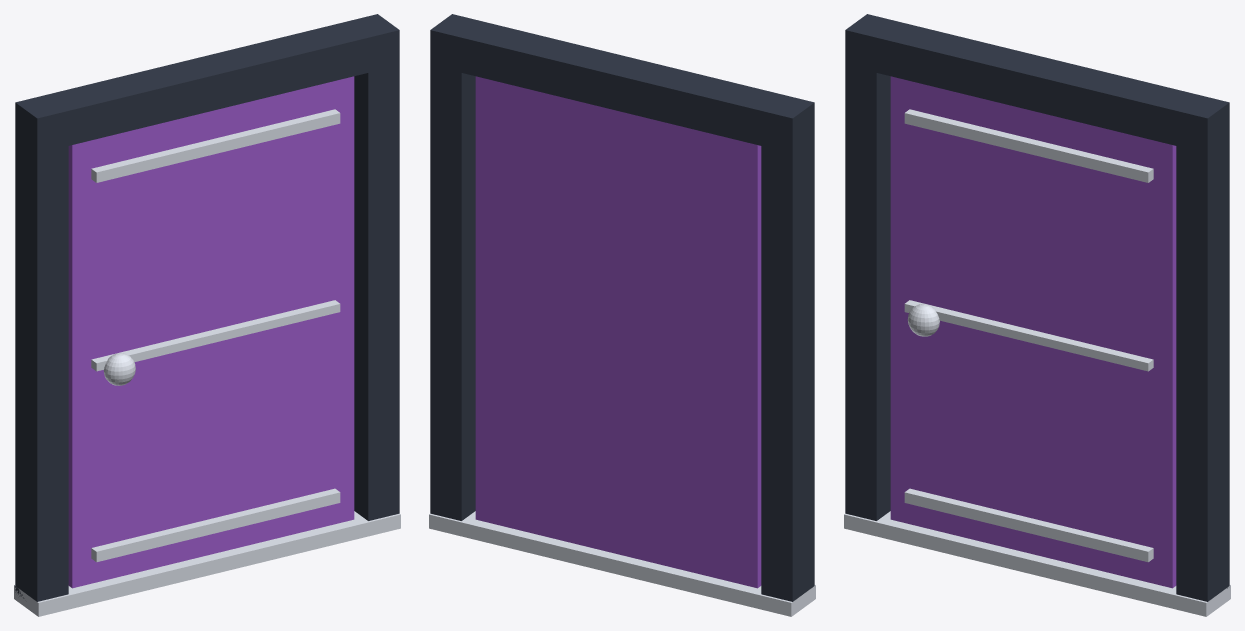
The model's file is studio-guide-interaction-door.glb.
3 renders of one model, left to right at view 1: azimuth 30°, elevation 25°; view 2: azimuth 150°, elevation 25°; view 3: azimuth 330°, elevation 25°, orthographic.
Parts seen in each view (by area): view 1: Interaction_DoorPanel, Interaction_FrameLeft, Interaction_FrameHeader, Interaction_FrameRight, Interaction_Threshold, Interaction_BottomTrim, Interaction_TopTrim, Interaction_CenterTrim, Interaction_DoorHandle; view 2: Interaction_DoorPanel, Interaction_FrameLeft, Interaction_FrameHeader, Interaction_FrameRight, Interaction_Threshold; view 3: Interaction_DoorPanel, Interaction_FrameRight, Interaction_FrameHeader, Interaction_FrameLeft, Interaction_Threshold, Interaction_BottomTrim, Interaction_TopTrim, Interaction_CenterTrim, Interaction_DoorHandle.
Boxes of the visible parts, x1=… form: Interaction_DoorPanel: x1=68, y1=76, x2=354, y2=588; Interaction_FrameLeft: x1=15, y1=104, x2=68, y2=601; Interaction_FrameHeader: x1=15, y1=14, x2=399, y2=153; Interaction_FrameRight: x1=354, y1=34, x2=399, y2=520; Interaction_Threshold: x1=14, y1=511, x2=400, y2=616; Interaction_BottomTrim: x1=91, y1=488, x2=340, y2=562; Interaction_TopTrim: x1=91, y1=109, x2=340, y2=182; Interaction_CenterTrim: x1=91, y1=300, x2=340, y2=371; Interaction_DoorHandle: x1=103, y1=353, x2=135, y2=385; Interaction_DoorPanel: x1=475, y1=76, x2=761, y2=588; Interaction_FrameLeft: x1=761, y1=104, x2=814, y2=601; Interaction_FrameHeader: x1=430, y1=14, x2=814, y2=153; Interaction_FrameRight: x1=430, y1=31, x2=475, y2=520; Interaction_Threshold: x1=429, y1=511, x2=815, y2=616; Interaction_DoorPanel: x1=890, y1=76, x2=1176, y2=588; Interaction_FrameRight: x1=1176, y1=104, x2=1229, y2=601; Interaction_FrameHeader: x1=845, y1=14, x2=1229, y2=153; Interaction_FrameLeft: x1=845, y1=33, x2=890, y2=520; Interaction_Threshold: x1=844, y1=511, x2=1230, y2=616; Interaction_BottomTrim: x1=904, y1=488, x2=1153, y2=562; Interaction_TopTrim: x1=904, y1=109, x2=1153, y2=182; Interaction_CenterTrim: x1=904, y1=300, x2=1153, y2=371; Interaction_DoorHandle: x1=907, y1=304, x2=939, y2=336.
Size of the model in its own units: 3.24 by 4.25 by 0.5.
